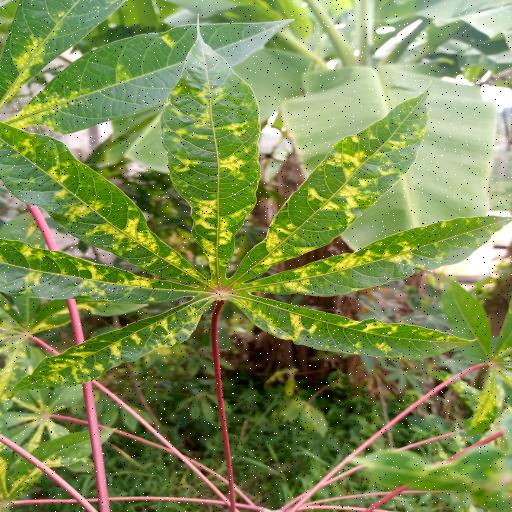Cassava_Mosaic: (0, 31, 485, 399)
